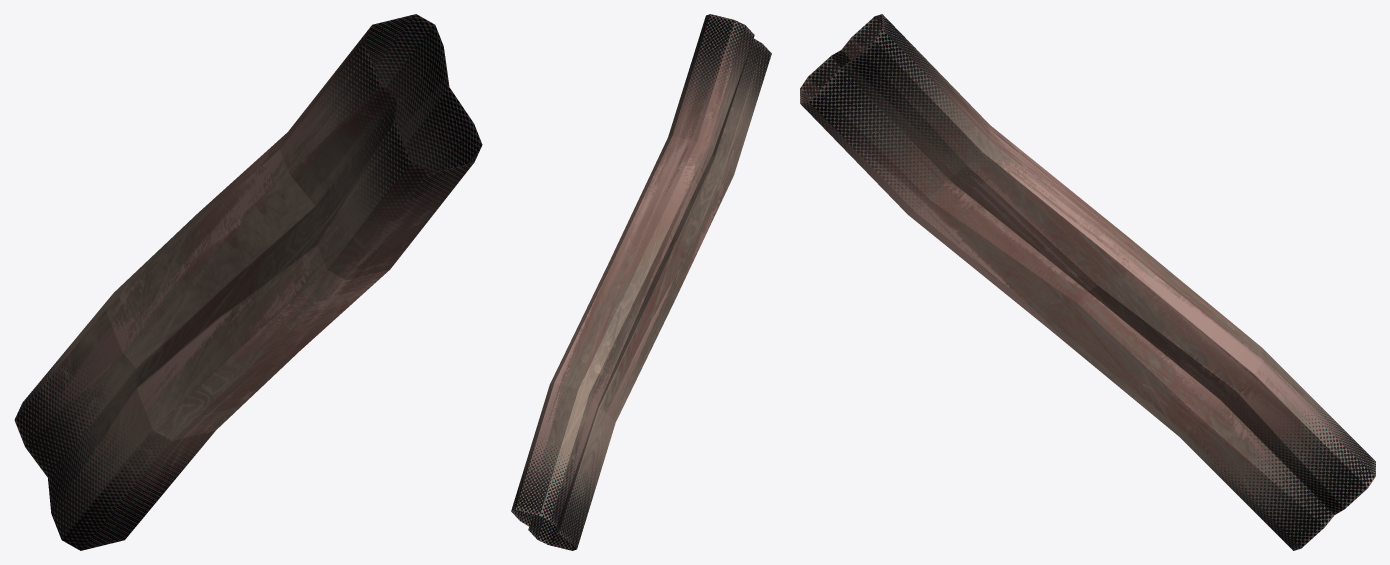
File: Wood_beam_small.obj
3 renders of one model, left to right at view 1: azimuth 30°, elevation 25°; view 2: azimuth 150°, elevation 25°; view 3: azimuth 270°, elevation 25°, orthographic. The views are drawn at different scales.
Parts seen in each view (by area): view 1: Cube.001; view 2: Cube.001; view 3: Cube.001.
Boxes of the visible parts, bbox=[...] form: Cube.001: bbox=[14, 14, 482, 550]; Cube.001: bbox=[511, 14, 771, 550]; Cube.001: bbox=[800, 14, 1375, 550].
Size of the model in its own units: 0.1578 by 1.24 by 1.24.
